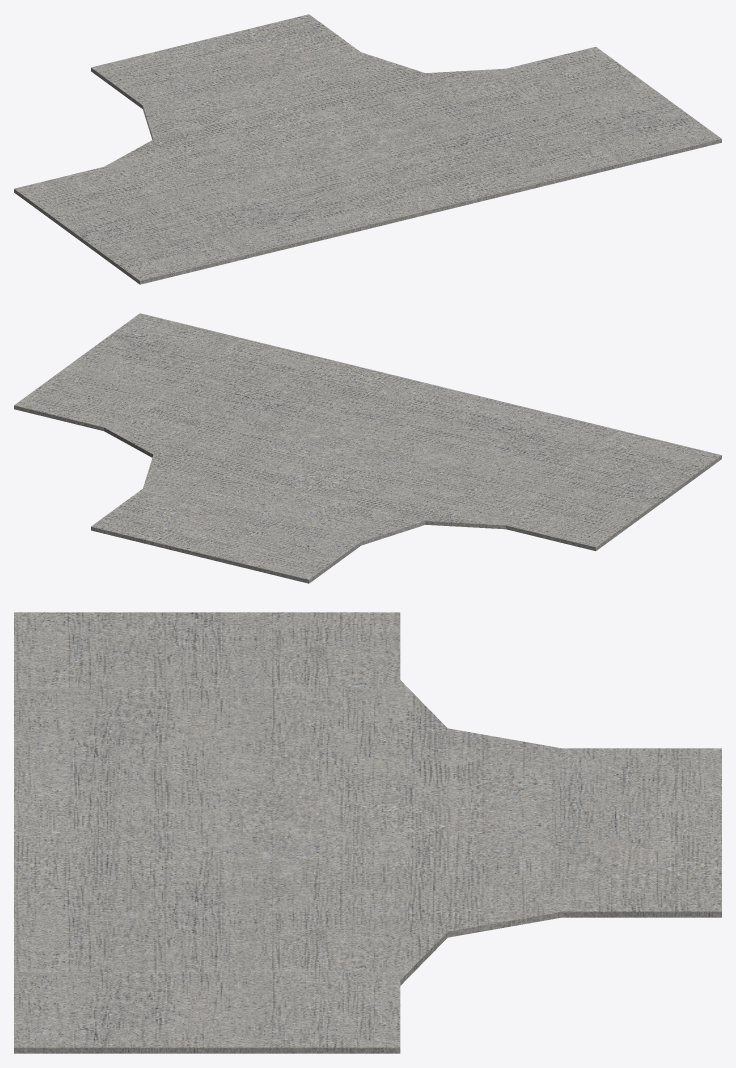
The model's file is IntersectionRoad.fbx.
3 renders of one model, top to bottom at view 1: azimuth 30°, elevation 25°; view 2: azimuth 150°, elevation 25°; view 3: azimuth 270°, elevation 25°, orthographic. The views are drawn at different scales.
Visible parts, largest first — view 1: IntersectionRoad; view 2: IntersectionRoad; view 3: IntersectionRoad.
Part boxes in pixels (bbox=[...]): IntersectionRoad: bbox=[14, 14, 721, 284]; IntersectionRoad: bbox=[14, 313, 721, 583]; IntersectionRoad: bbox=[14, 612, 721, 1053].
Size of the model in its own units: 1600 by 10 by 1100.
Materials: 1 (1 with a texture image).
